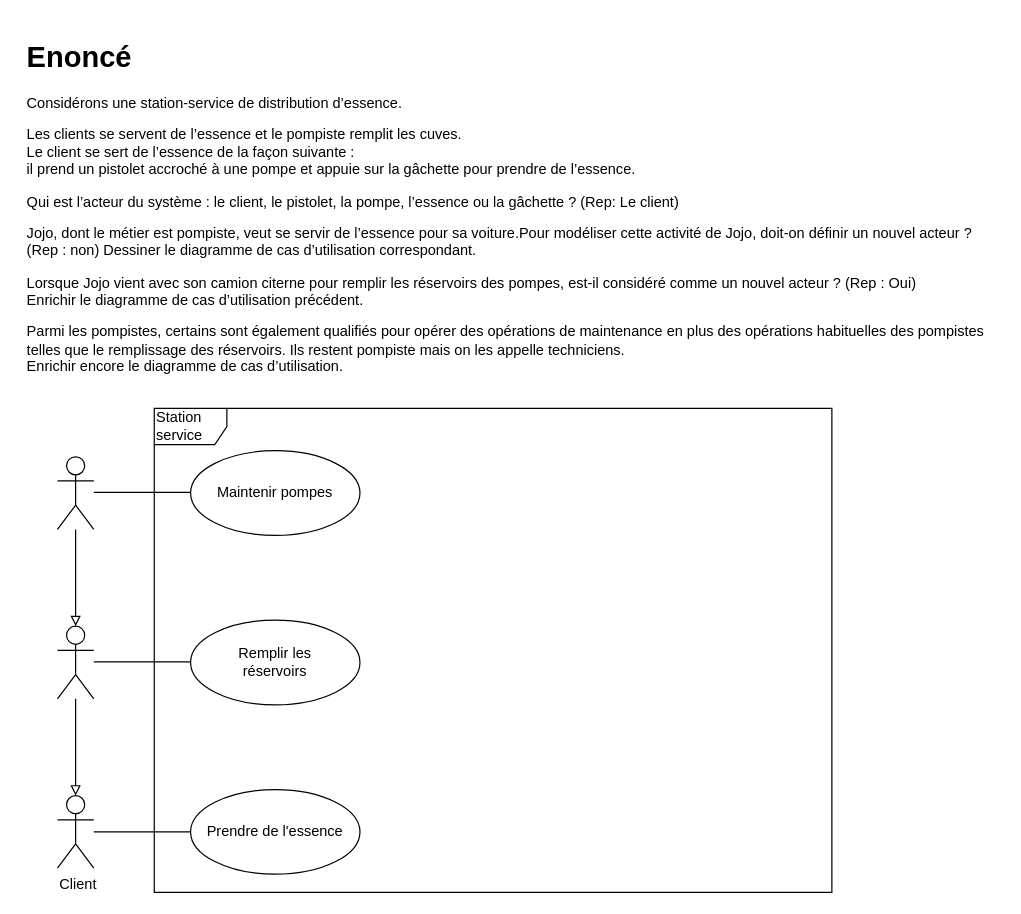
This 1021x914 diagram has some shape labels left out. The shapes that lost their labels are listed below. From the top down, each one's centre as x and y in pixels, then its label:
At (x=75, y=492): "Technicien".
At (x=75, y=662): "Pompiste".
